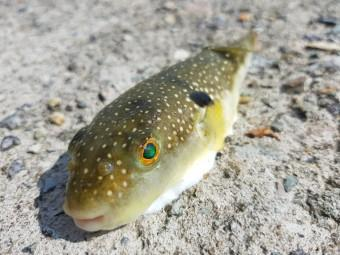fish: (63, 31, 256, 231)
